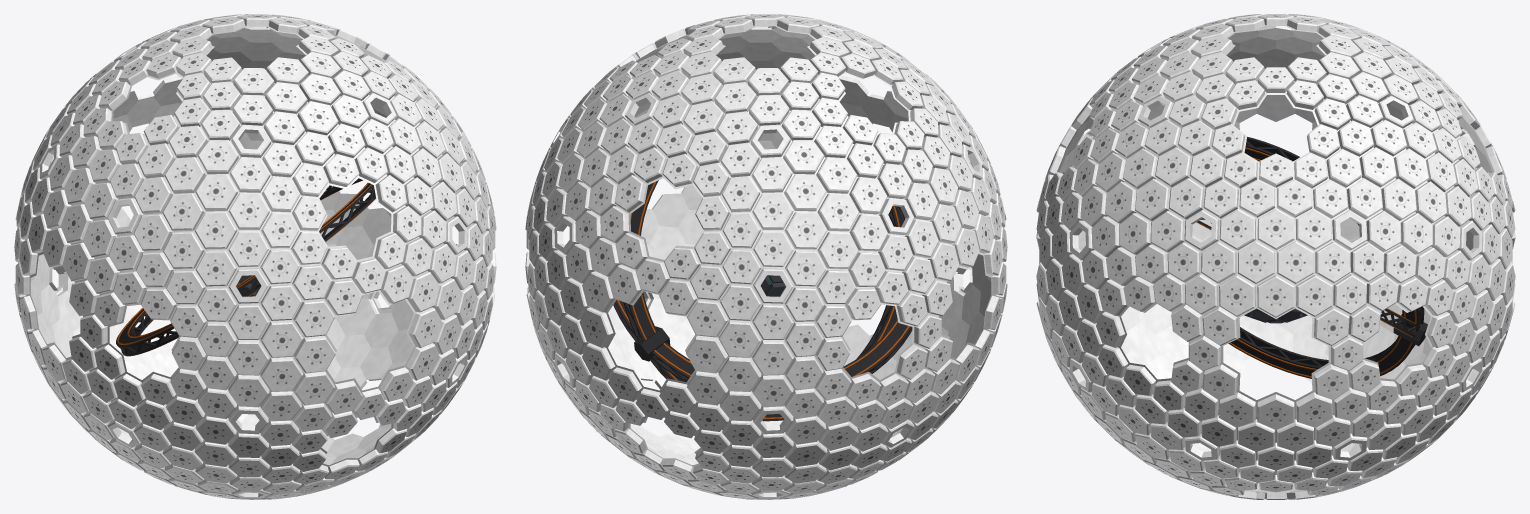
File: three-clock.glb
3 views of the same model, side by side, from view 1: azimuth 30°, elevation 25°; view 2: azimuth 150°, elevation 25°; view 3: azimuth 270°, elevation 25° (orthographic).
Visible parts, largest first — view 1: outer_dyson_shell, quarantine_rings; view 2: outer_dyson_shell, quarantine_rings; view 3: outer_dyson_shell, quarantine_rings.
Boxes of the visible parts, <box> form: outer_dyson_shell: <box>14,14,496,499</box>; quarantine_rings: <box>116,178,376,356</box>; outer_dyson_shell: <box>525,14,1007,499</box>; quarantine_rings: <box>613,180,912,421</box>; outer_dyson_shell: <box>1036,14,1515,499</box>; quarantine_rings: <box>1196,137,1427,378</box>.
Size of the model in its own units: 1.97 by 1.97 by 1.97.
Materials: 7 (7 with a texture image).
